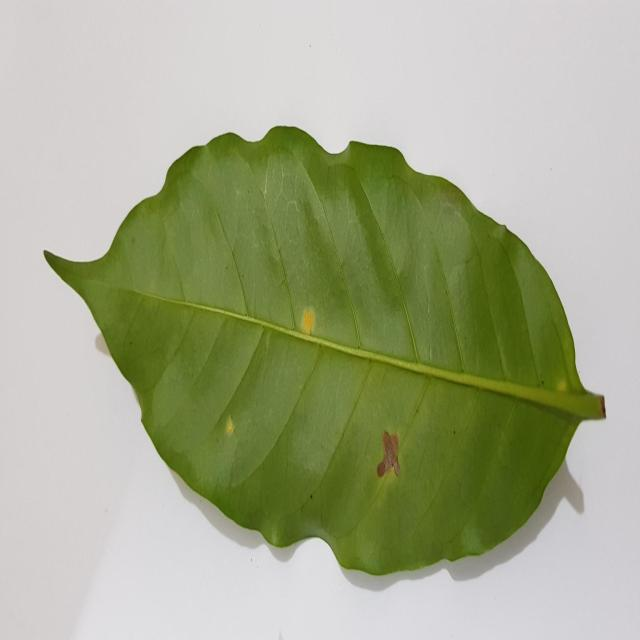miner: (377, 431, 399, 478)
rust: (300, 305, 316, 341), (216, 412, 236, 437)
